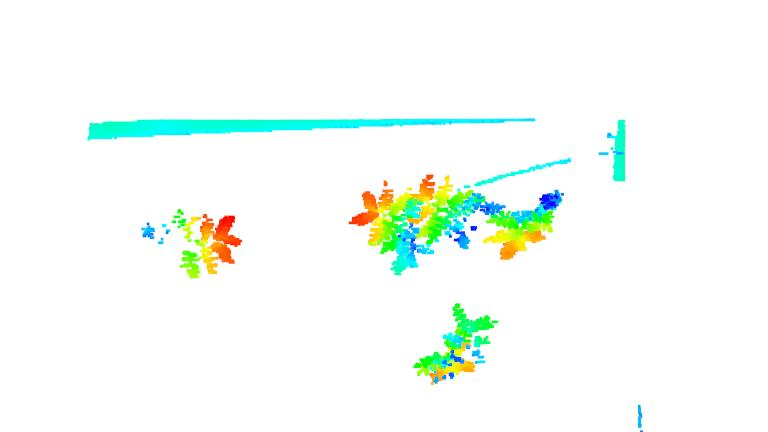chickpea: (348, 168, 424, 276), (410, 300, 503, 385), (140, 206, 245, 281), (422, 156, 502, 254), (478, 185, 567, 261)
